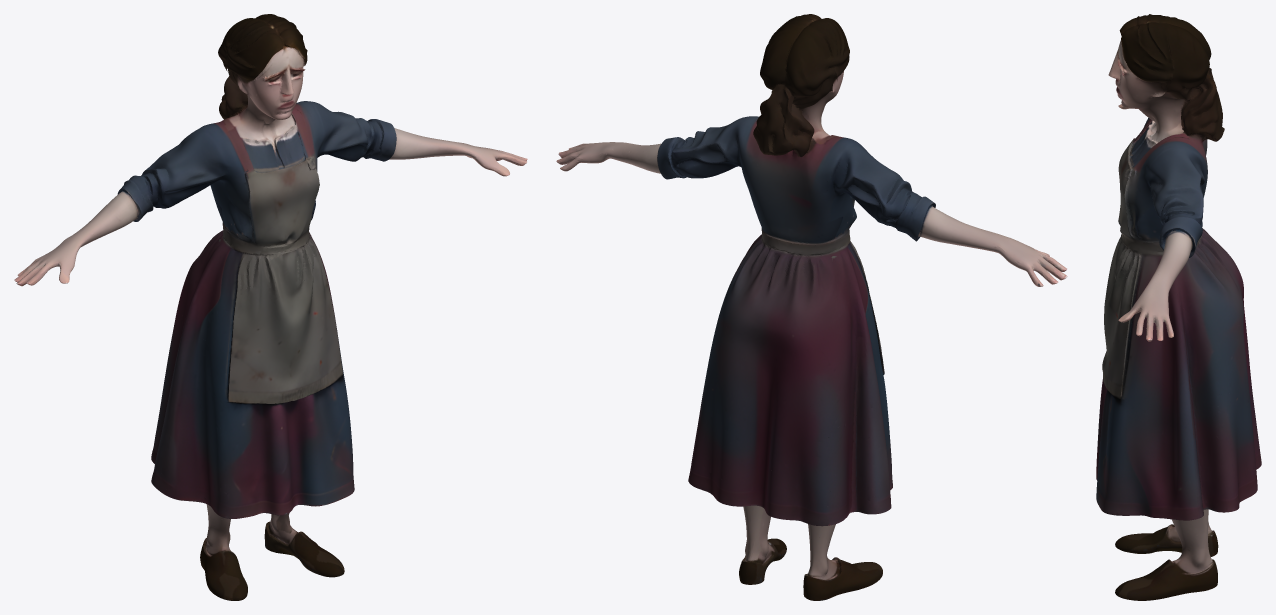
Rendered from base_basic_pbr.fbx.
3 renders of one model, left to right at view 1: azimuth 30°, elevation 25°; view 2: azimuth 150°, elevation 25°; view 3: azimuth 270°, elevation 25°, orthographic.
Visible parts, largest first — view 1: model; view 2: model; view 3: model.
Part boxes in pixels (<box>): model: <box>14,14,527,600</box>; model: <box>556,14,1067,600</box>; model: <box>1096,14,1261,600</box>.
Size of the model in its own units: 183 by 190 by 51.68.
Materials: 1 (1 with a texture image).
